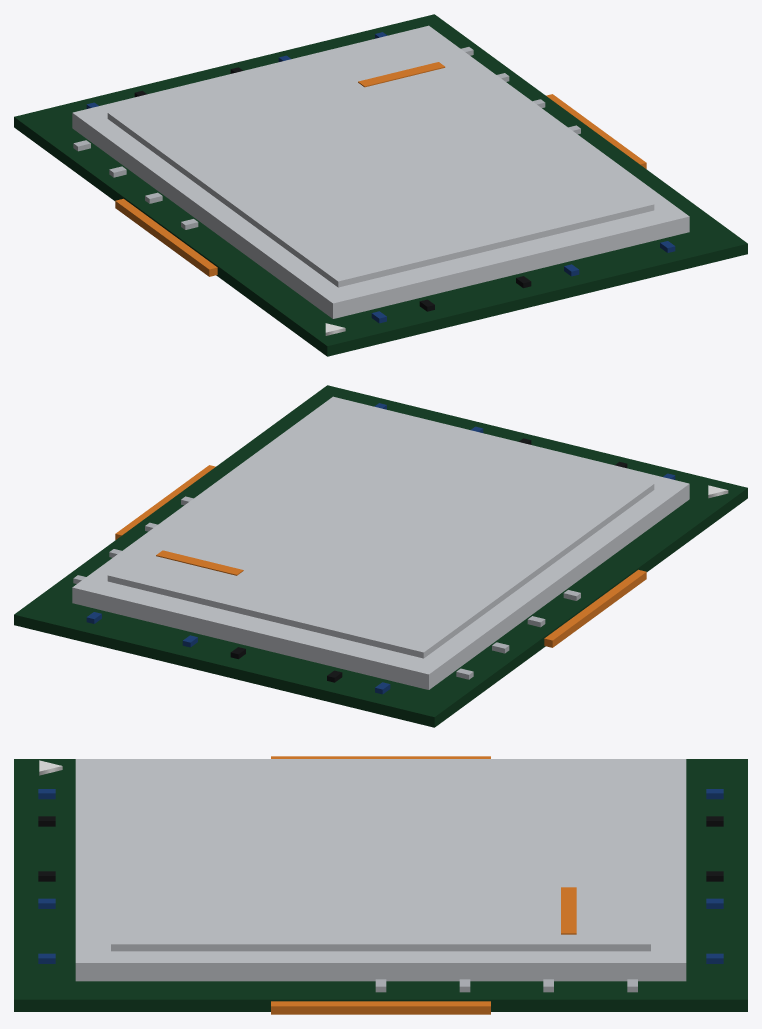
File: hw_cpu_epyc_128c.glb
3 renders of one model, top to bottom at view 1: azimuth 30°, elevation 25°; view 2: azimuth 150°, elevation 25°; view 3: azimuth 270°, elevation 25°, orthographic. The views are drawn at different scales.
Parts seen in each view (by area): view 1: Body; view 2: Body; view 3: Body.
Boxes of the visible parts, bbox=[...] form: Body: bbox=[14, 14, 747, 356]; Body: bbox=[14, 385, 747, 727]; Body: bbox=[14, 756, 747, 1014].
Bounding box in the file's own units: 0.0608 × 0.00467 × 0.0755.
